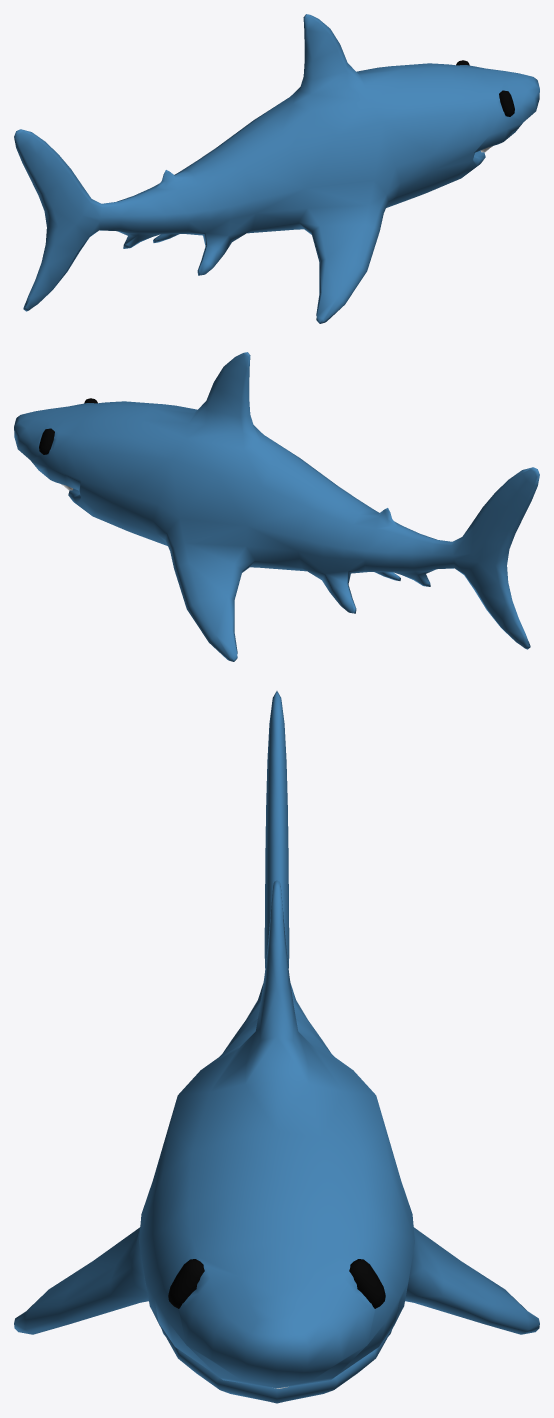
The model's file is Shark.glb.
3 renders of one model, top to bottom at view 1: azimuth 30°, elevation 25°; view 2: azimuth 150°, elevation 25°; view 3: azimuth 270°, elevation 25°, orthographic. The views are drawn at different scales.
Parts seen in each view (by area): view 1: Shark; view 2: Shark; view 3: Shark.
Part boxes in pixels (left/top/right/bottom): Shark: left=14, top=14, right=539, bottom=323; Shark: left=14, top=352, right=539, bottom=661; Shark: left=14, top=691, right=539, bottom=1403.
Size of the model in its own units: 9.61 by 4.38 by 4.21.
